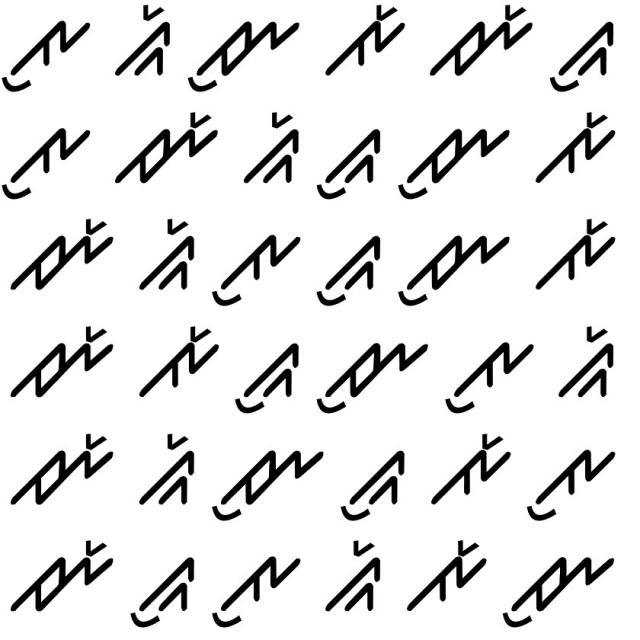ar: (429, 431, 516, 515), (130, 320, 224, 397), (536, 214, 619, 296), (533, 108, 620, 185), (323, 2, 410, 78), (408, 537, 490, 613)
aw: (440, 330, 536, 414), (526, 442, 620, 526), (206, 548, 302, 628), (209, 228, 303, 308), (1, 15, 94, 92), (2, 121, 92, 198)
nggar: (130, 432, 202, 512), (553, 314, 618, 402), (135, 214, 201, 296), (323, 533, 389, 614), (242, 104, 302, 190), (112, 4, 178, 81)
nggaw: (310, 118, 386, 203), (333, 447, 411, 524), (312, 228, 383, 311), (232, 338, 304, 418), (127, 554, 198, 631), (548, 17, 616, 97)
njar: (110, 110, 220, 196), (7, 215, 117, 299), (9, 324, 121, 405), (424, 0, 536, 81), (8, 426, 116, 510), (9, 540, 115, 614)
njaw: (394, 110, 513, 206), (314, 326, 430, 416), (498, 550, 618, 632), (207, 442, 329, 521), (186, 13, 302, 94), (396, 232, 516, 310)
